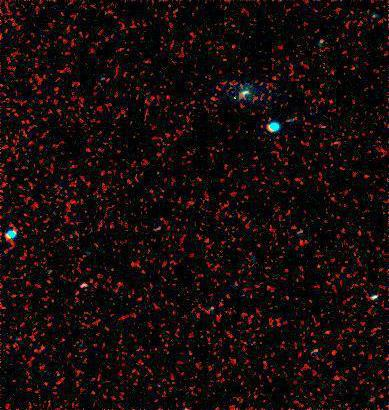star: (214, 84, 244, 114)
